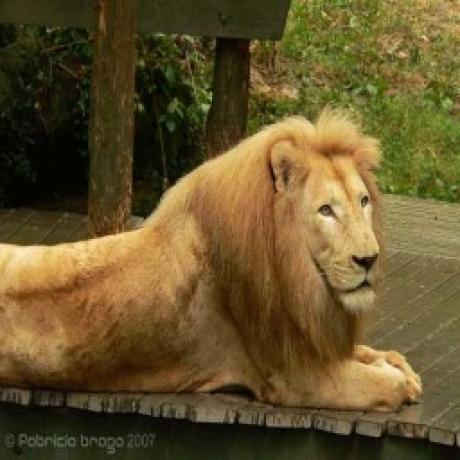Lion: (0, 108, 428, 413)
